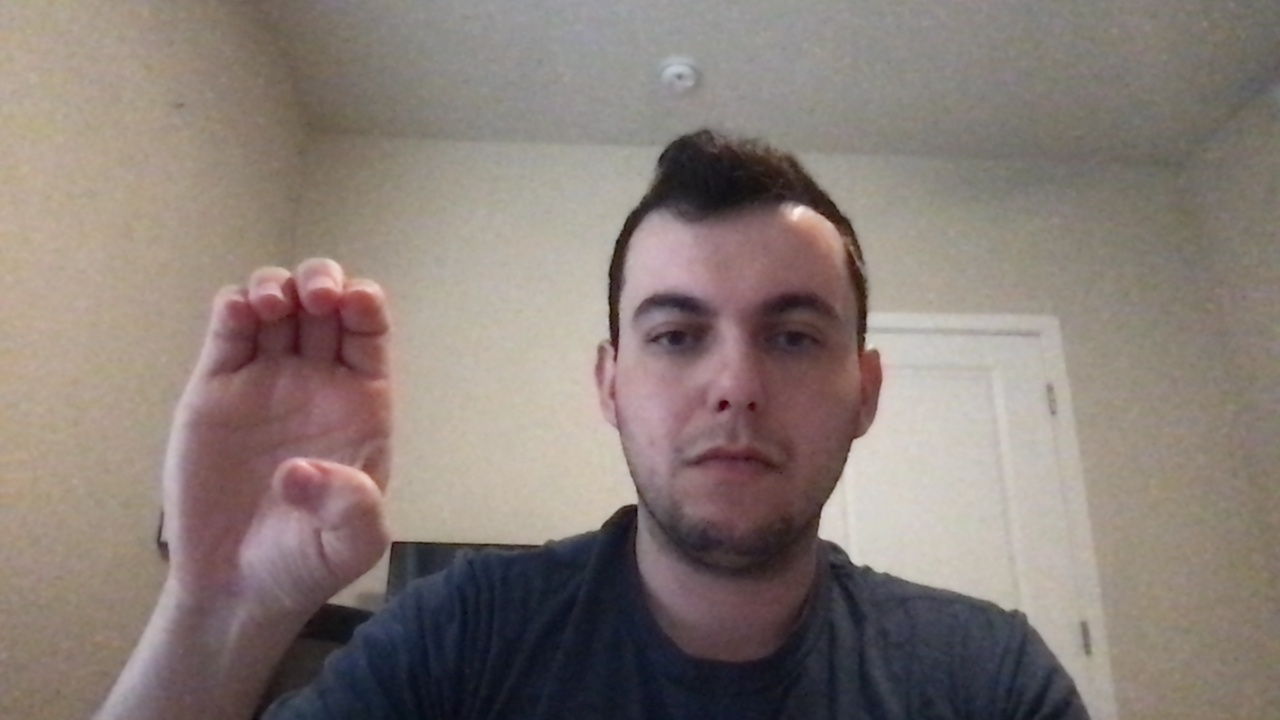e: (131, 245, 425, 620)
